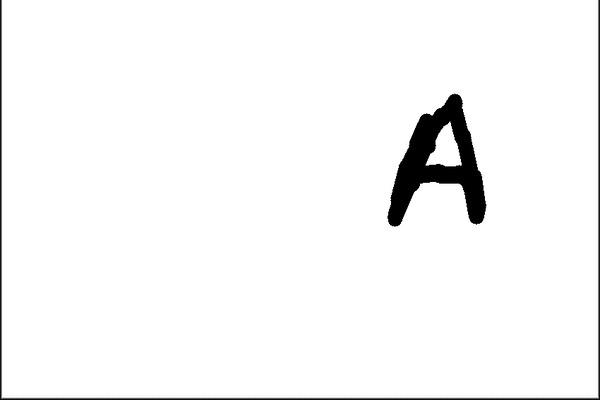A: (376, 83, 494, 229)
